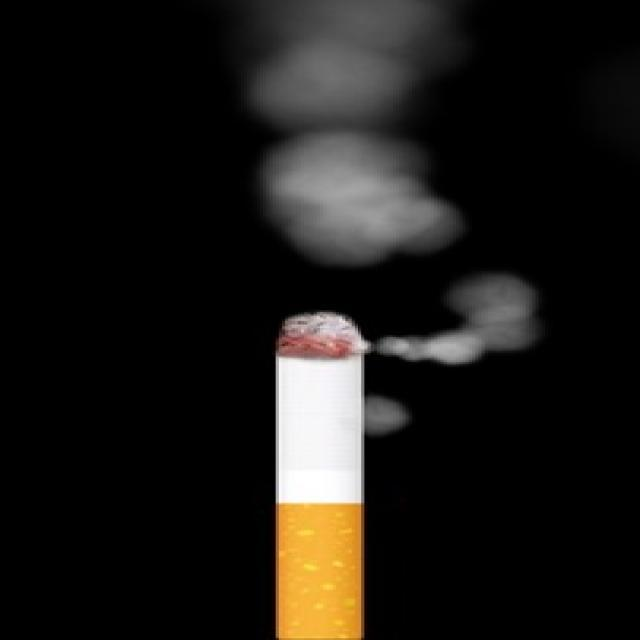cigarette: (279, 306, 369, 639)
